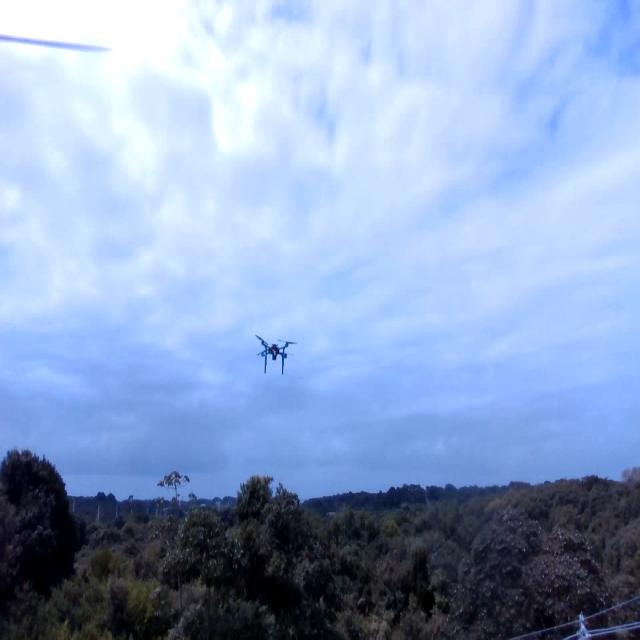-uav-: (249, 326, 298, 382)
